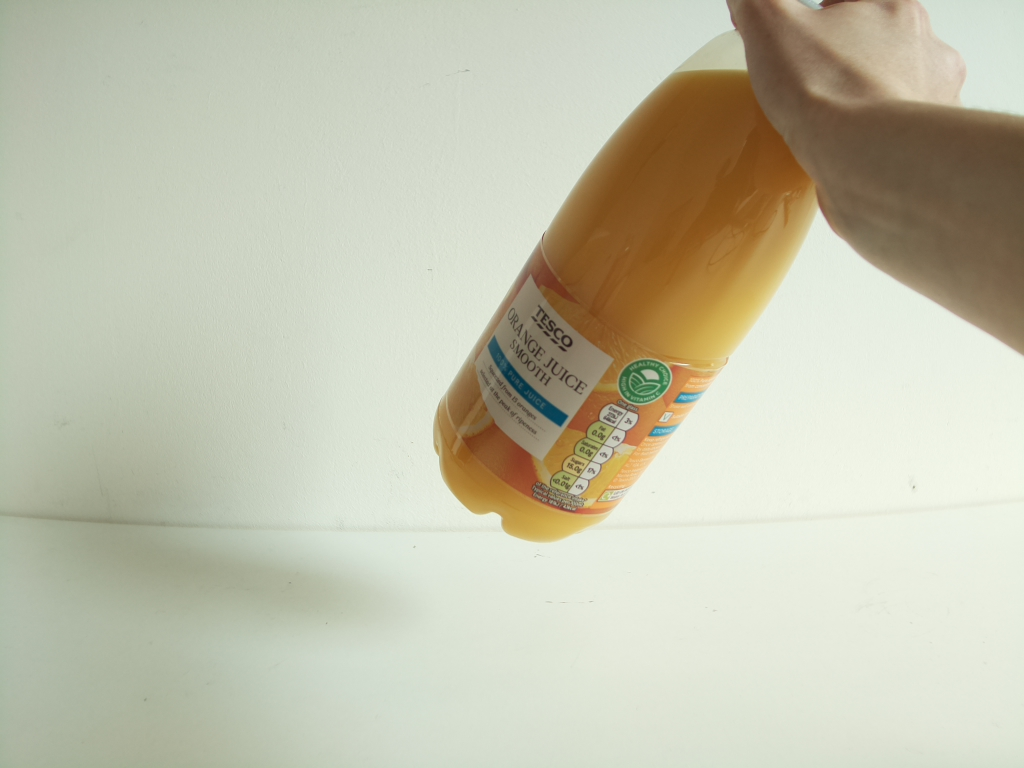juice: (426, 1, 849, 549)
